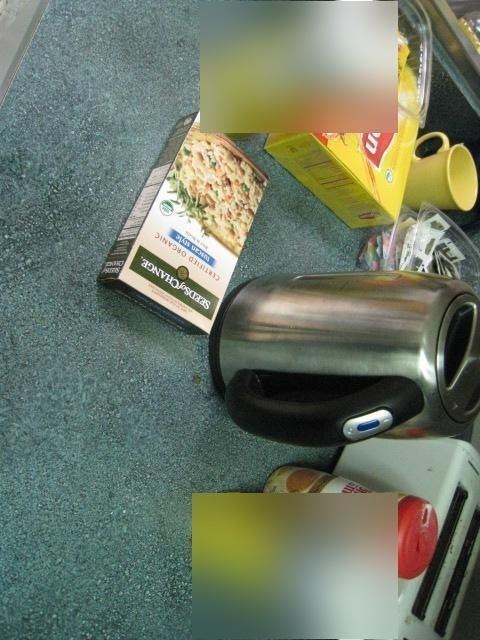cup-handle: (407, 130, 479, 212)
